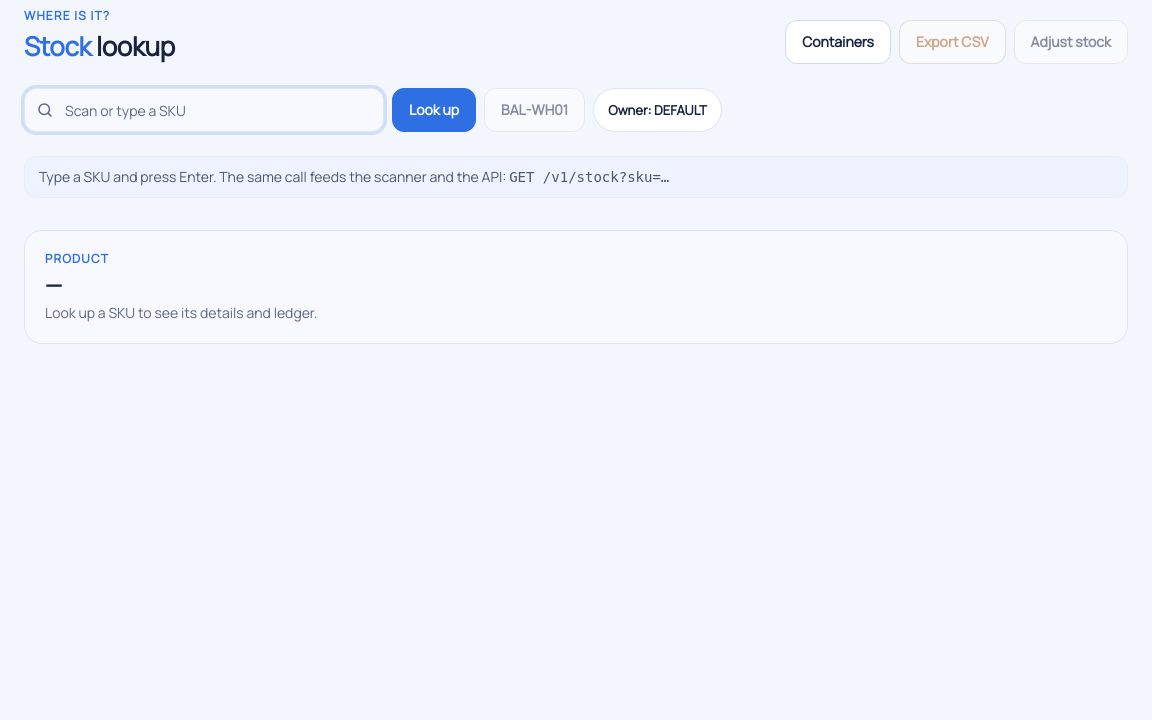
it: Stock lookup › looks up a sku, shows tiles, rows in FIFO order and the ledger
This screenshot has width=1152, height=720.
Type "ABC123" into the search field labelled "SKU" at (204, 110), box left=24, top=88, right=384, bottom=132
Then press Enter
(page scrolled)
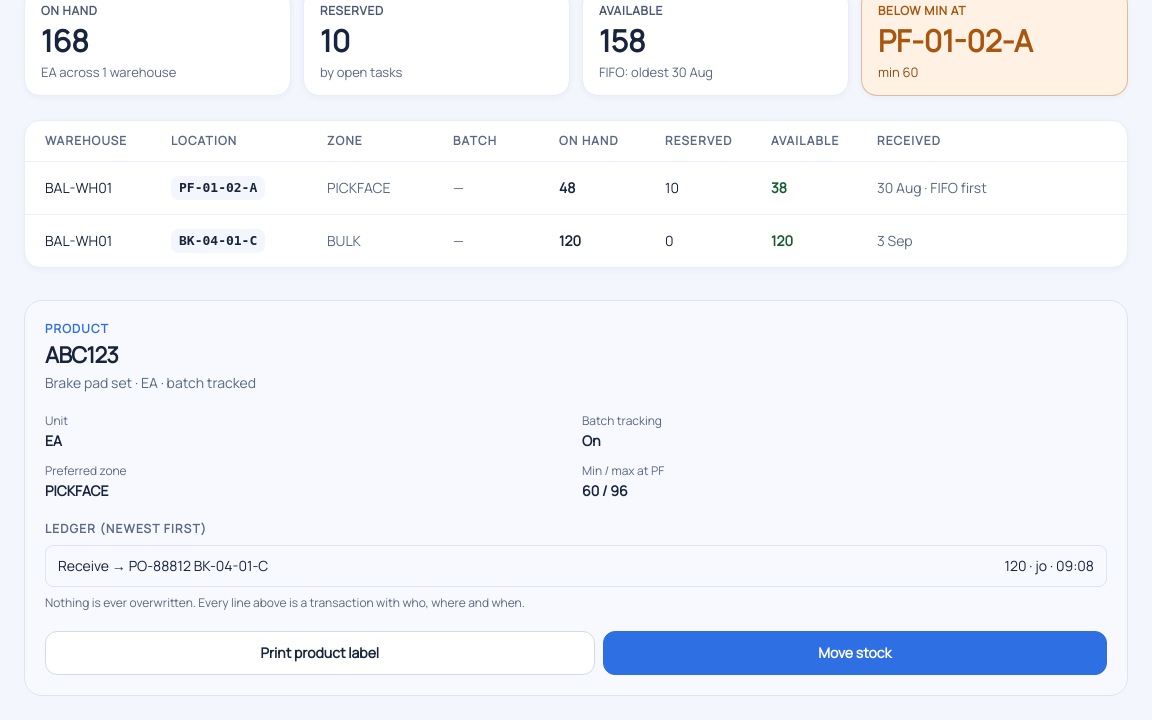
Check: the text "Brake pad set · EA · batch tracked" is shown, box left=45, top=373, right=256, bottom=392
Check: the text "168" is shown, box left=41, top=20, right=89, bottom=61
Check: the text "158" is shown, box left=599, top=20, right=646, bottom=61
